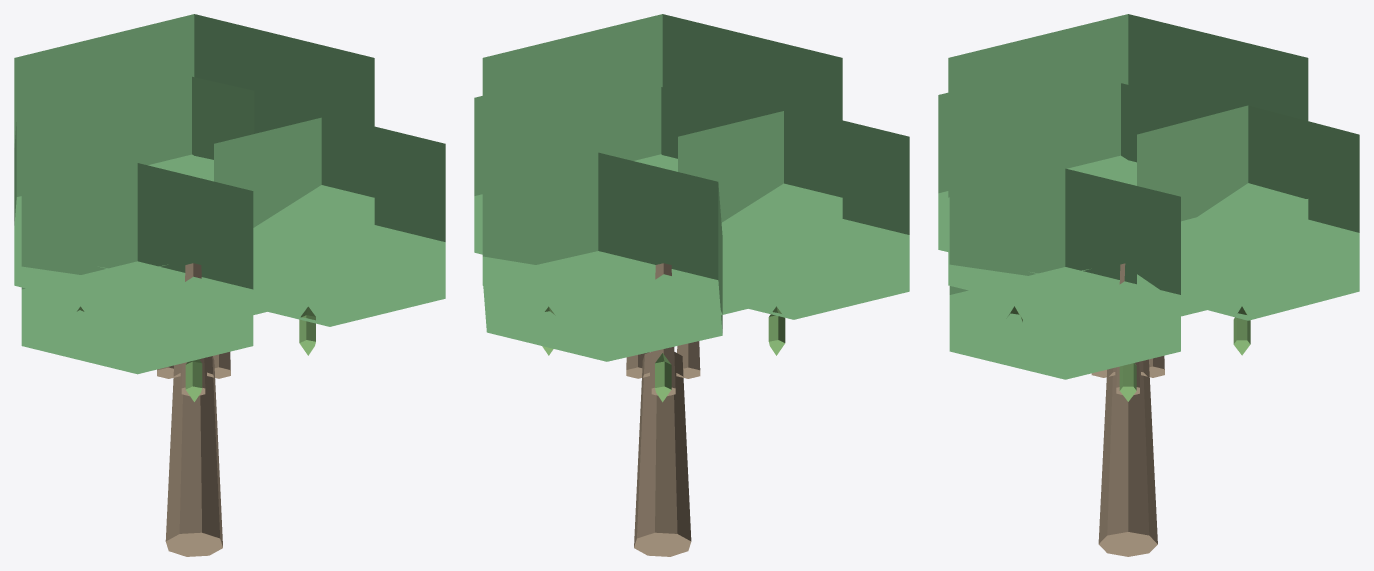
Rendered from flora_35_persea_americana_cay_bo_sap_034_da_lat_don_duong_tree.glb.
The picture shows the model from 3 angles, left to right: view 1: azimuth 30°, elevation 25°; view 2: azimuth 150°, elevation 25°; view 3: azimuth 270°, elevation 25°; orthographic projection.
Visible parts, largest first — view 1: flora_35_persea_americana_cay_bo_sap_034_da_lat_don_duong_tr; view 2: flora_35_persea_americana_cay_bo_sap_034_da_lat_don_duong_tr; view 3: flora_35_persea_americana_cay_bo_sap_034_da_lat_don_duong_tr.
Boxes of the visible parts, x1=… form: flora_35_persea_americana_cay_bo_sap_034_da_lat_don_duong_tr: x1=14, y1=14, x2=445, y2=556; flora_35_persea_americana_cay_bo_sap_034_da_lat_don_duong_tr: x1=474, y1=14, x2=909, y2=556; flora_35_persea_americana_cay_bo_sap_034_da_lat_don_duong_tr: x1=938, y1=14, x2=1359, y2=556.
Size of the model in its own units: 4.34 by 4.95 by 3.69.
